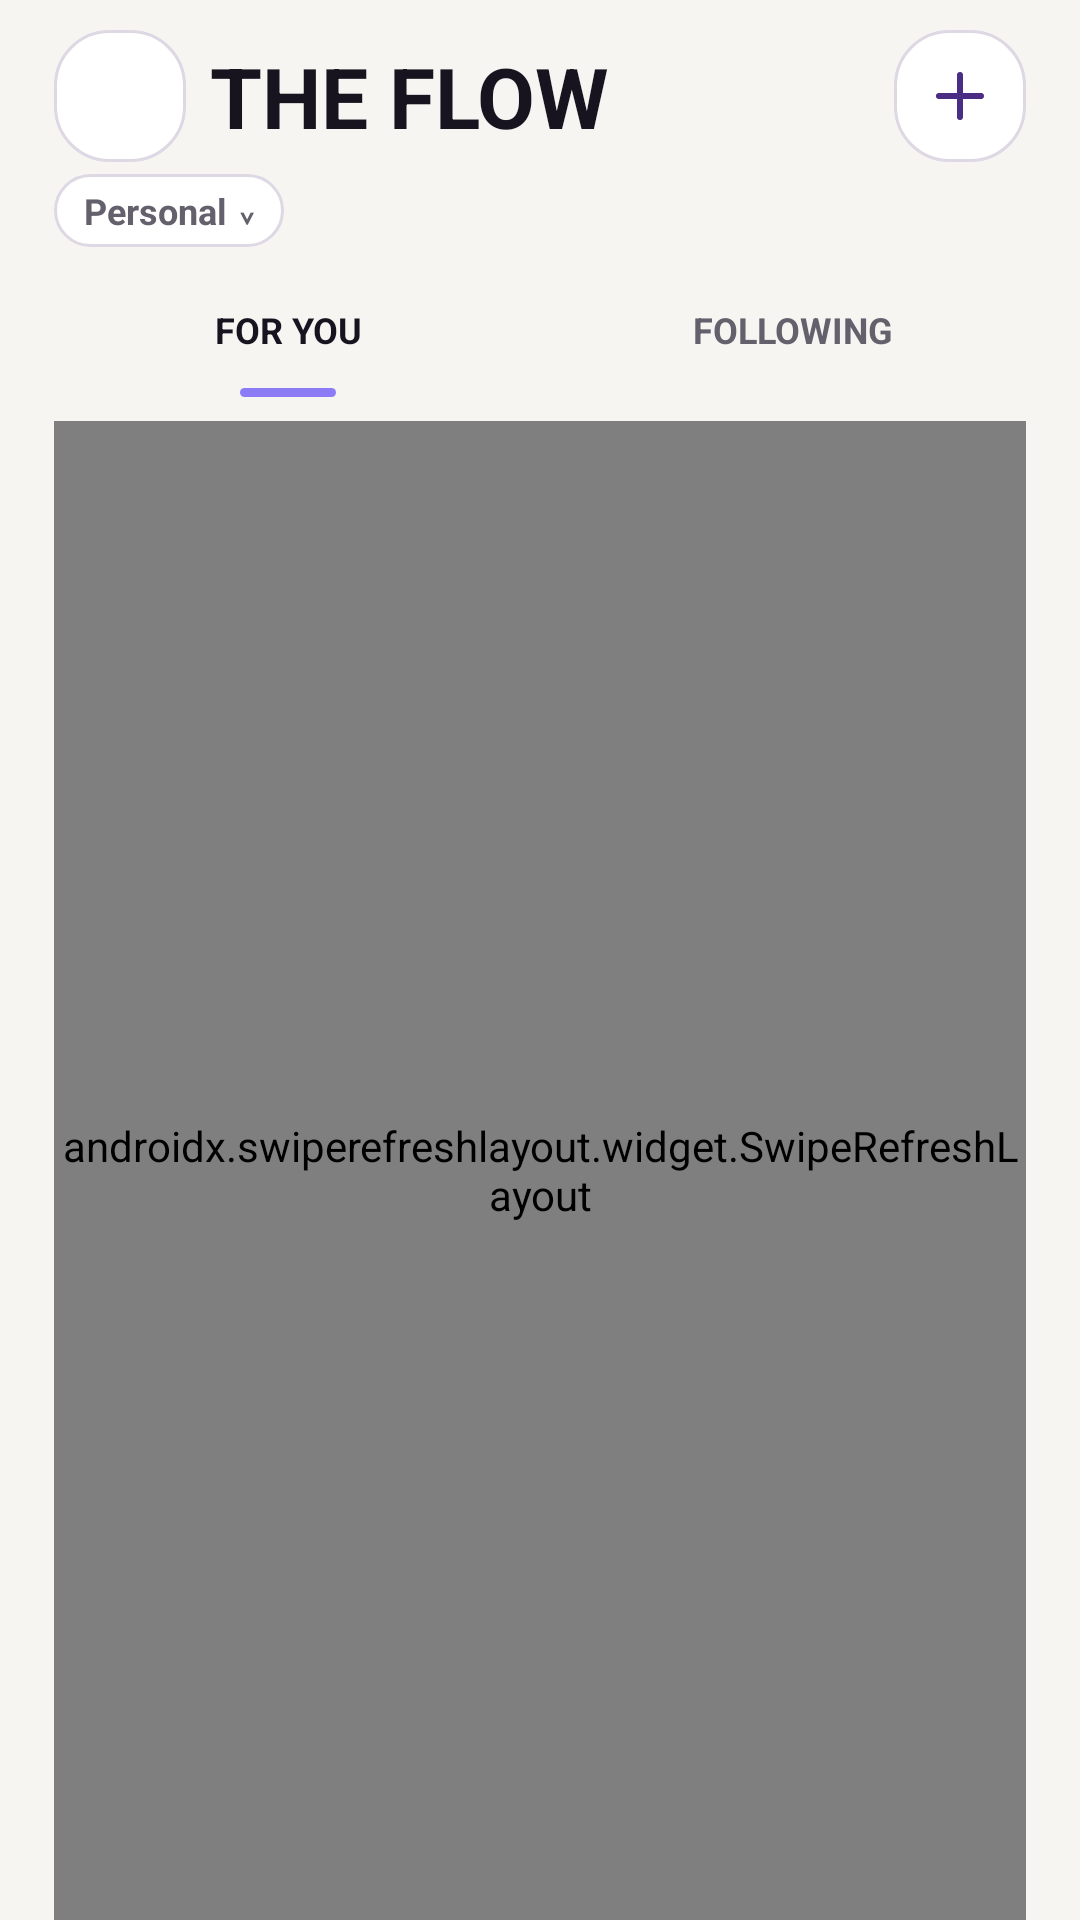

Named icons in this screenshot (1080 × 1920) and their bounding boxes, (x1, y1, x2, y2):
Create post: (894, 30, 1026, 162)
